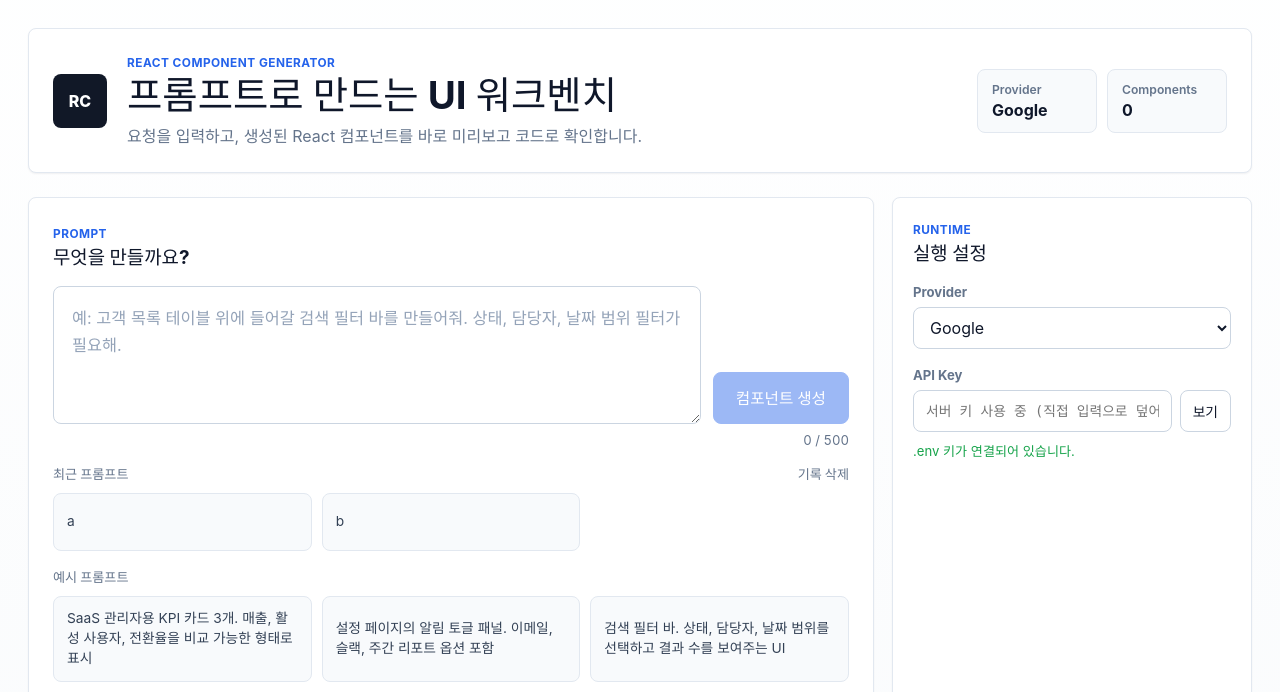
Test: App 상태 영속화 › 기록 삭제를 누르면 히스토리가 비워진다
The image size is (1280, 692).
Click the button "기록 삭제". click: (823, 473)
box: [798,464,849,483]
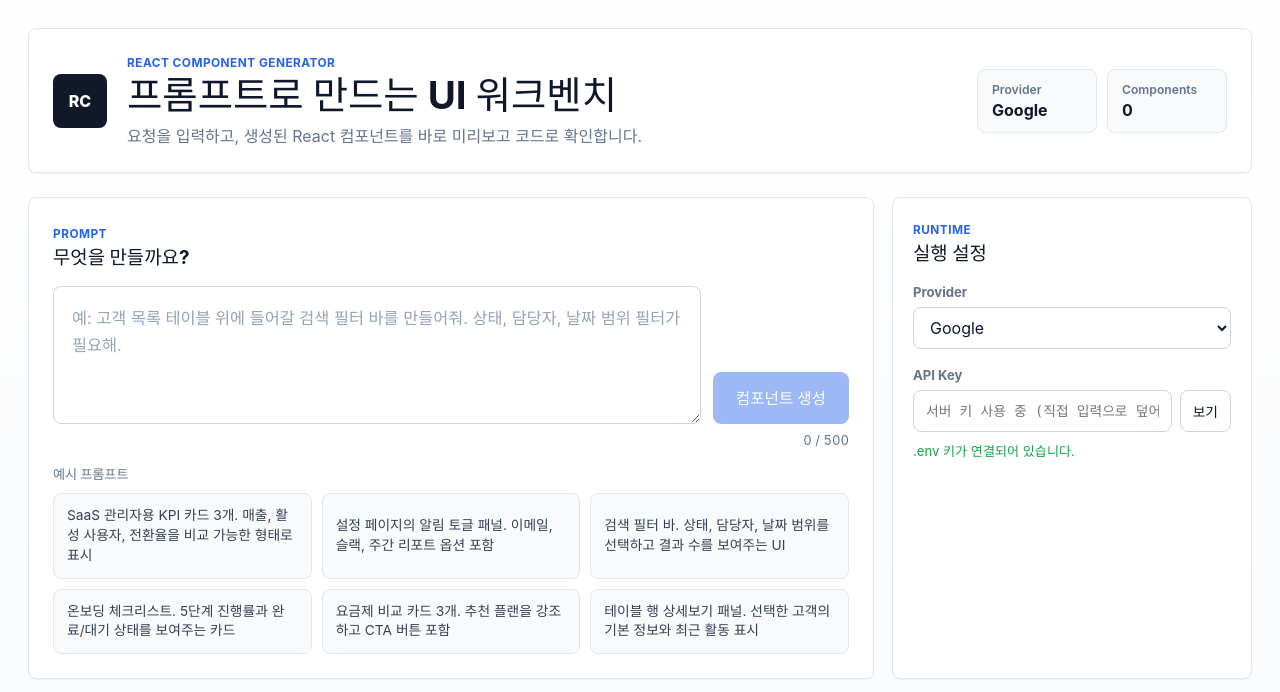
Expected: the text "최근 프롬프트" is gone
